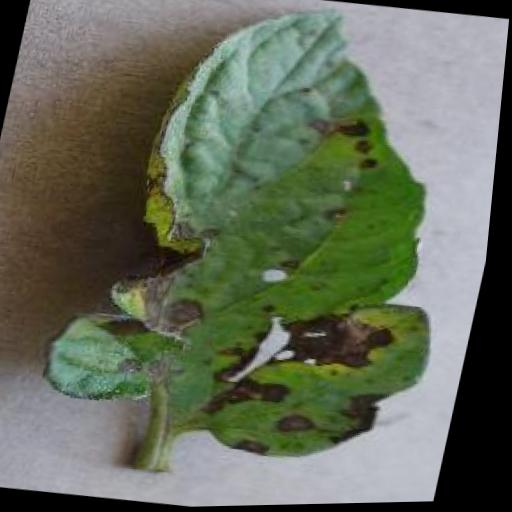Early Blight: (31, 0, 503, 477)
